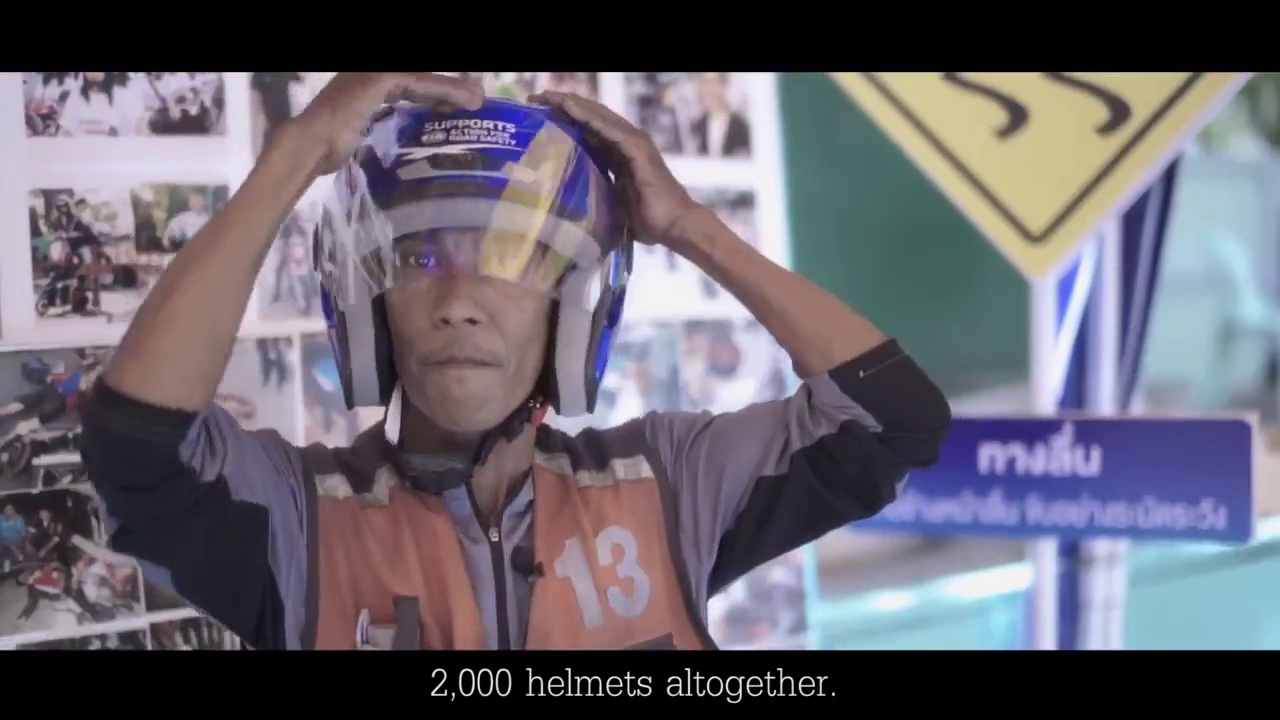helmet: (299, 87, 638, 424)
